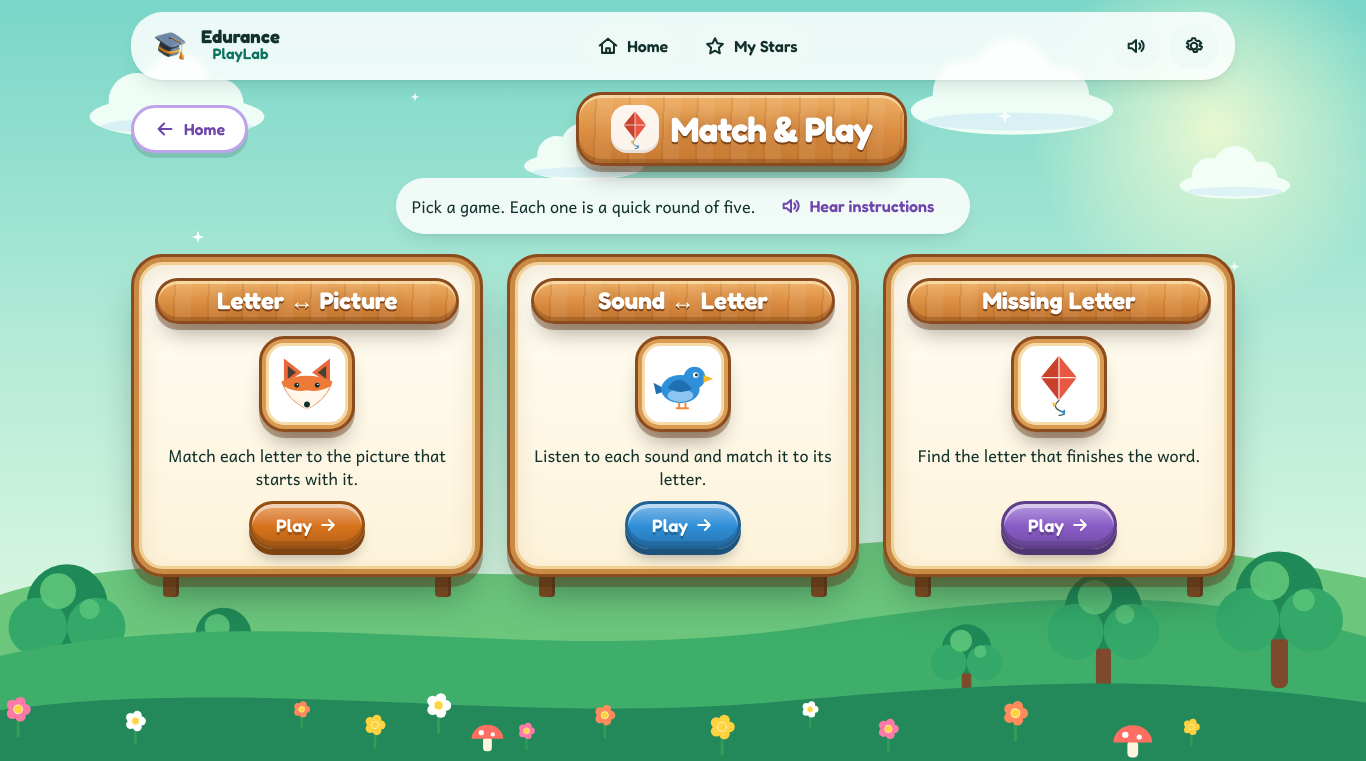
Test case: Matching hub › offers three games, each reachable and returnable
Expected: the text "Letter ↔ Picture" is shown, [155, 278, 459, 324]
Click the button that starts with "Letter ↔ Picture".
click(307, 416)  # box [131, 254, 483, 577]
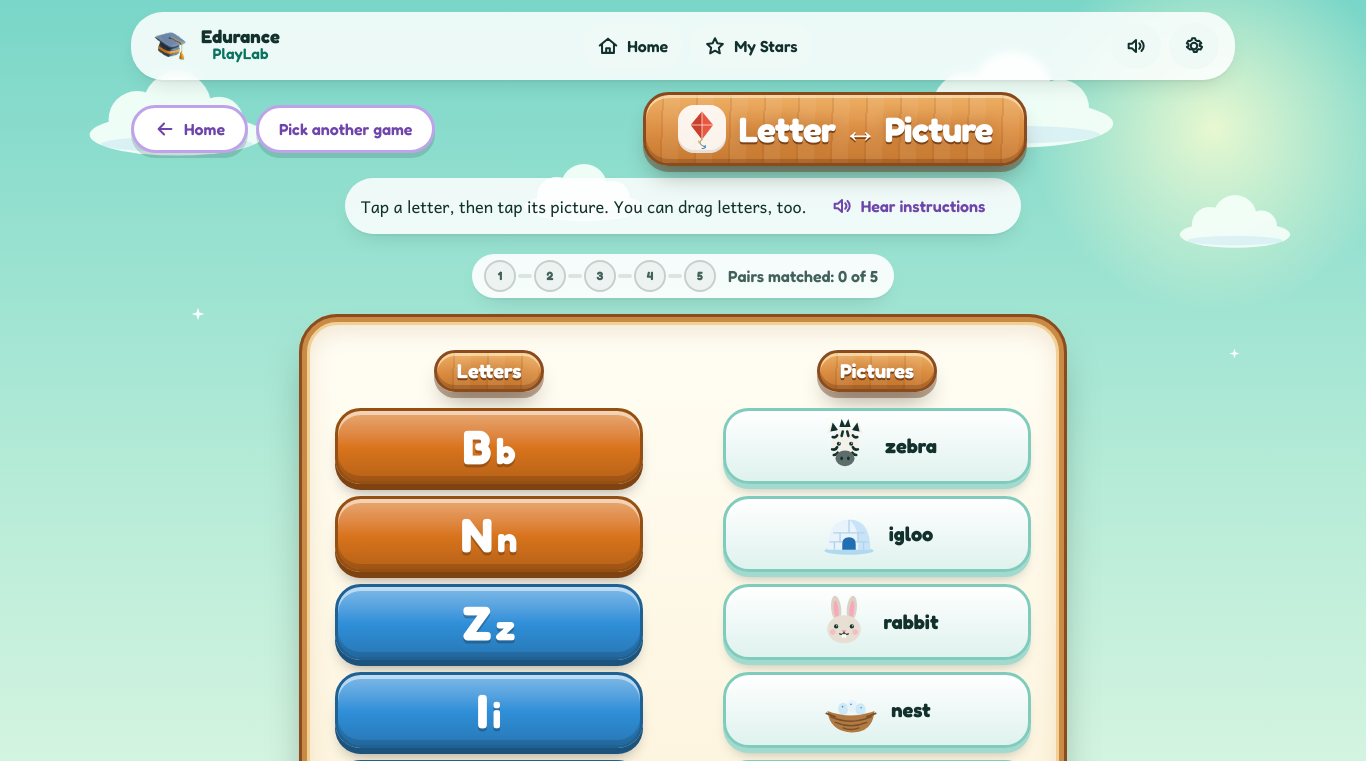
Result: the heading "Letter ↔ Picture" is shown at [738, 112, 992, 147]
Click the button "Pick another game".
click(346, 129)  # box [256, 105, 435, 153]
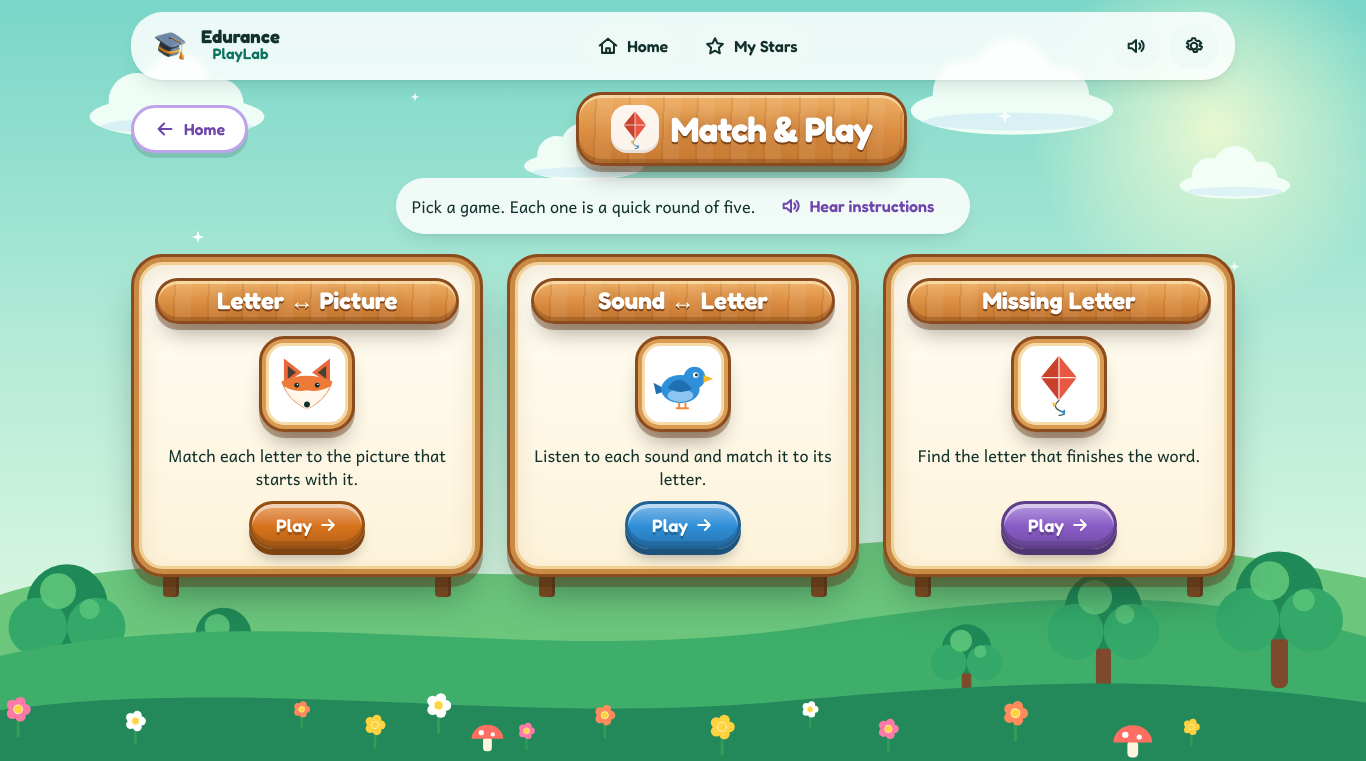
Result: the text "Pick a game. Each one is a quick round of five." is shown at [412, 195, 756, 218]
Click the button that starts with "Sound ↔ Letter".
click(683, 416)  # box [507, 254, 859, 577]
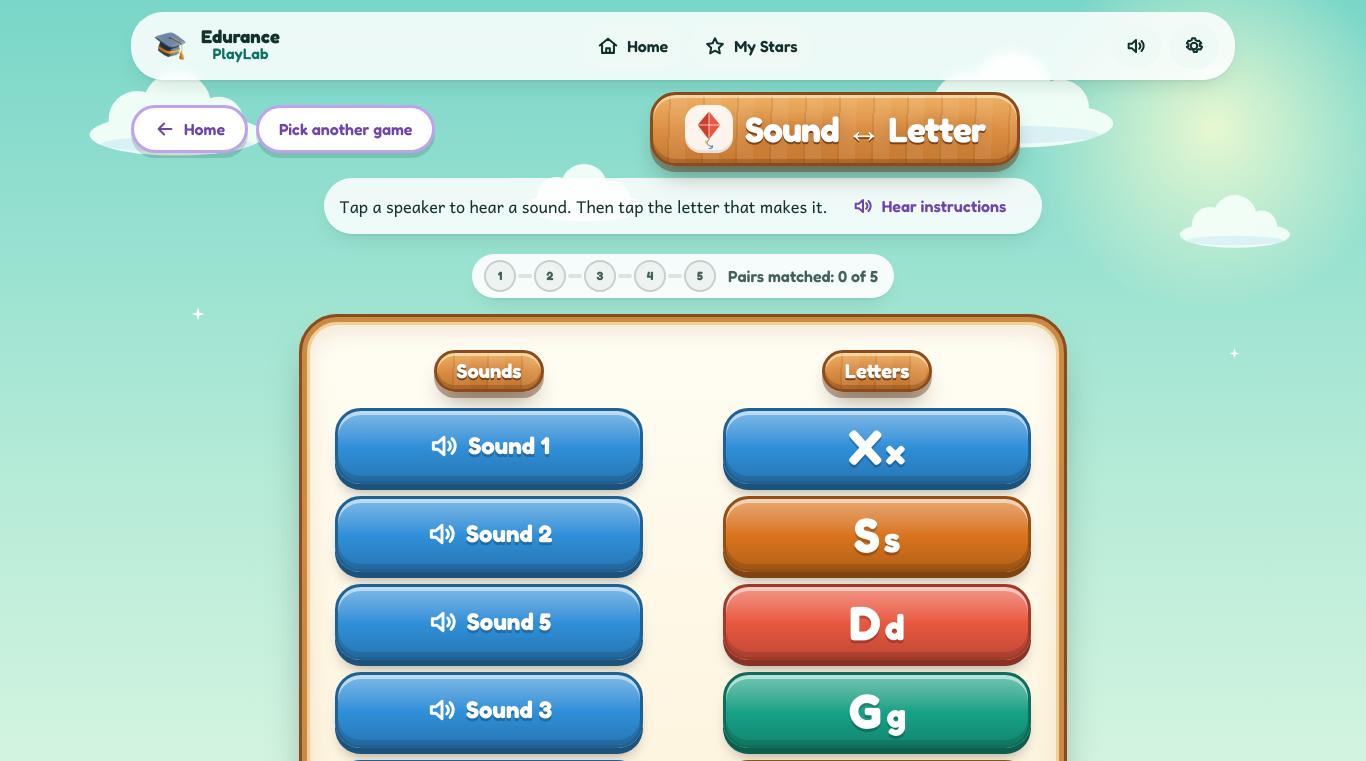
Result: the heading "Sound ↔ Letter" is shown at [745, 112, 985, 147]
Click the button "Pick another game".
click(346, 129)  # box [256, 105, 435, 153]
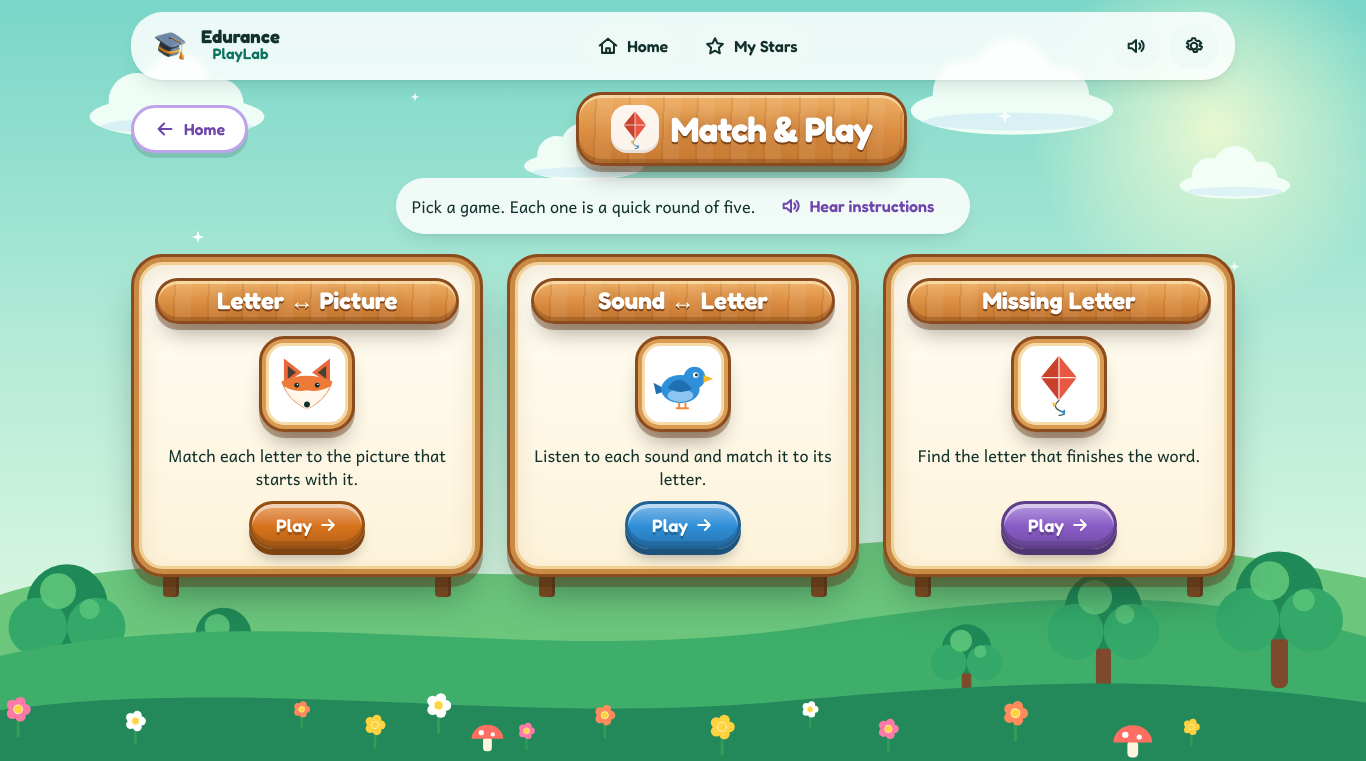
Result: the text "Pick a game. Each one is a quick round of five." is shown at [412, 195, 756, 218]
Click the button "Missing Letter Find the letter that finishes the word. Play".
click(1059, 416)  # box [883, 254, 1235, 577]
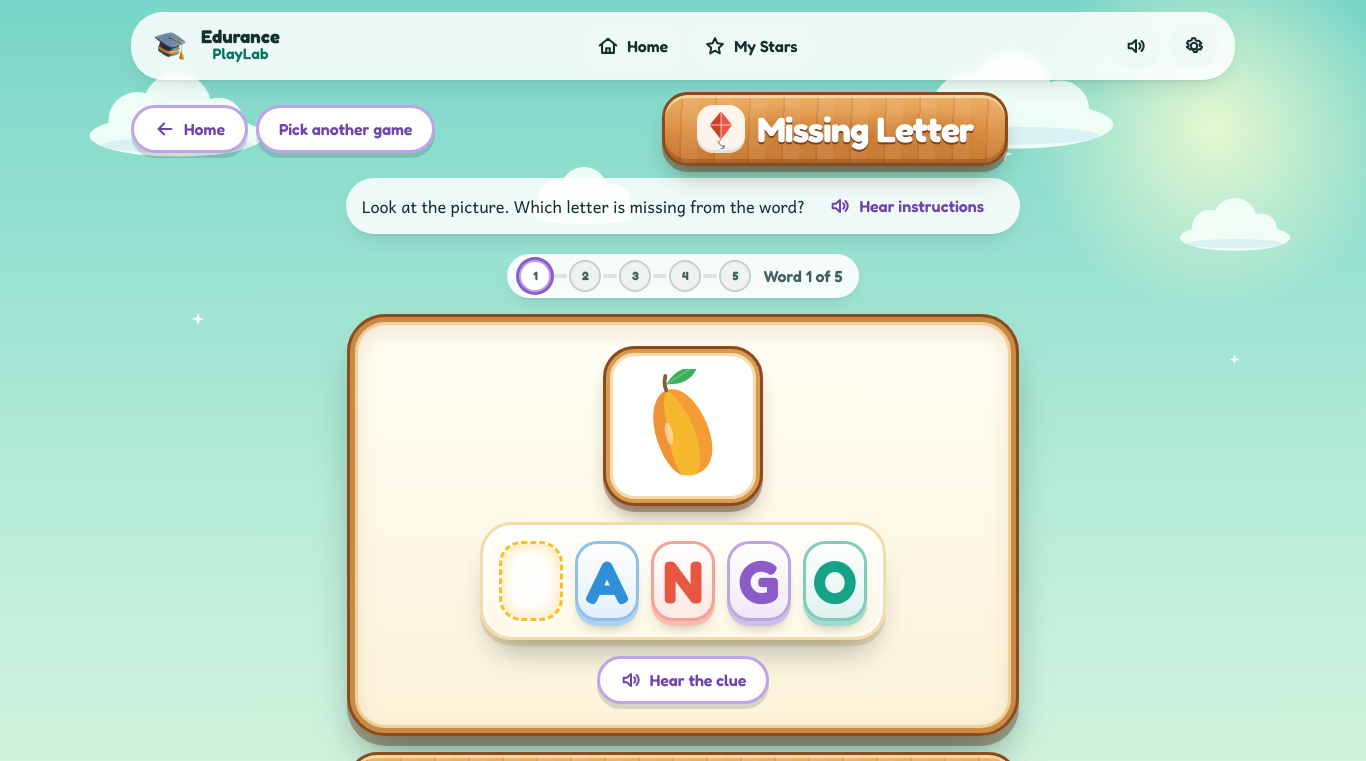
Result: the heading "Missing Letter" is shown at [757, 112, 973, 147]
Click the button "Pick another game".
click(346, 129)  # box [256, 105, 435, 153]
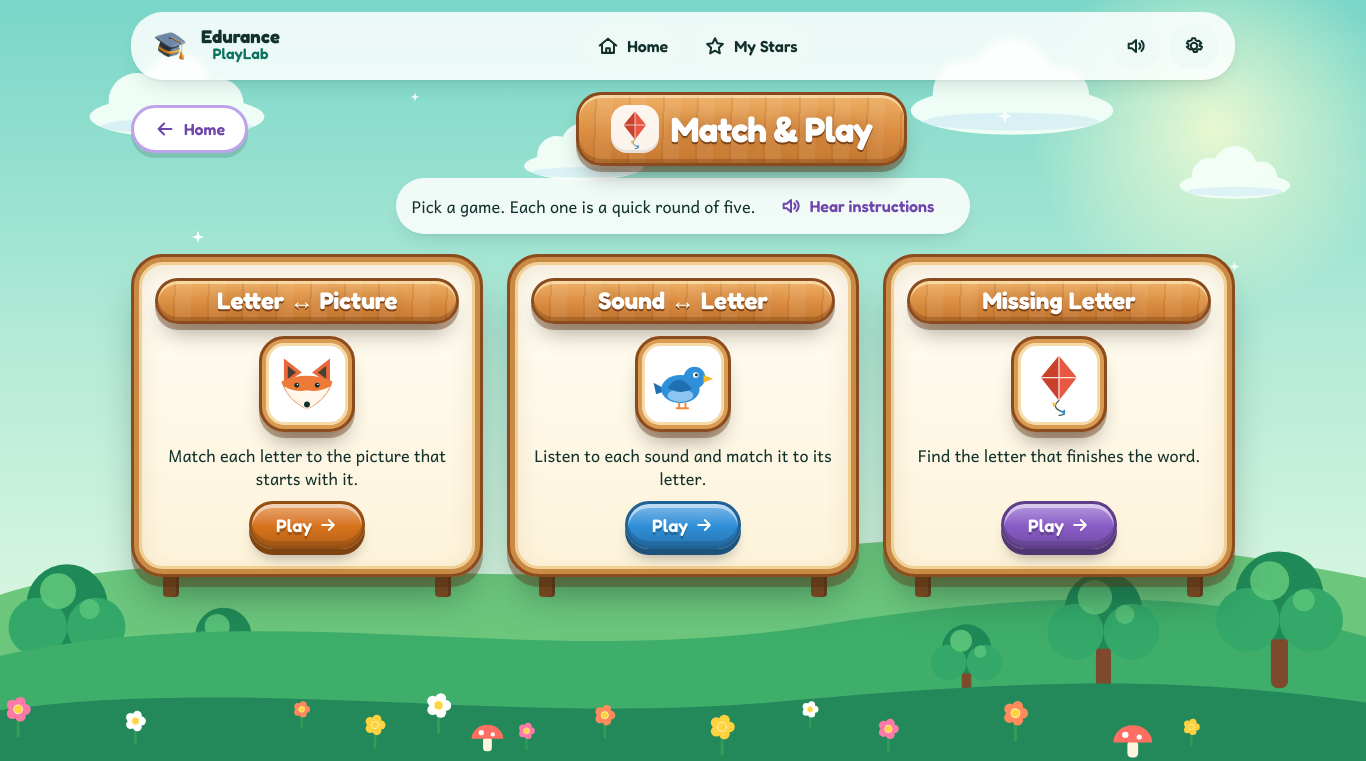
Result: the text "Pick a game. Each one is a quick round of five." is shown at [412, 195, 756, 218]
